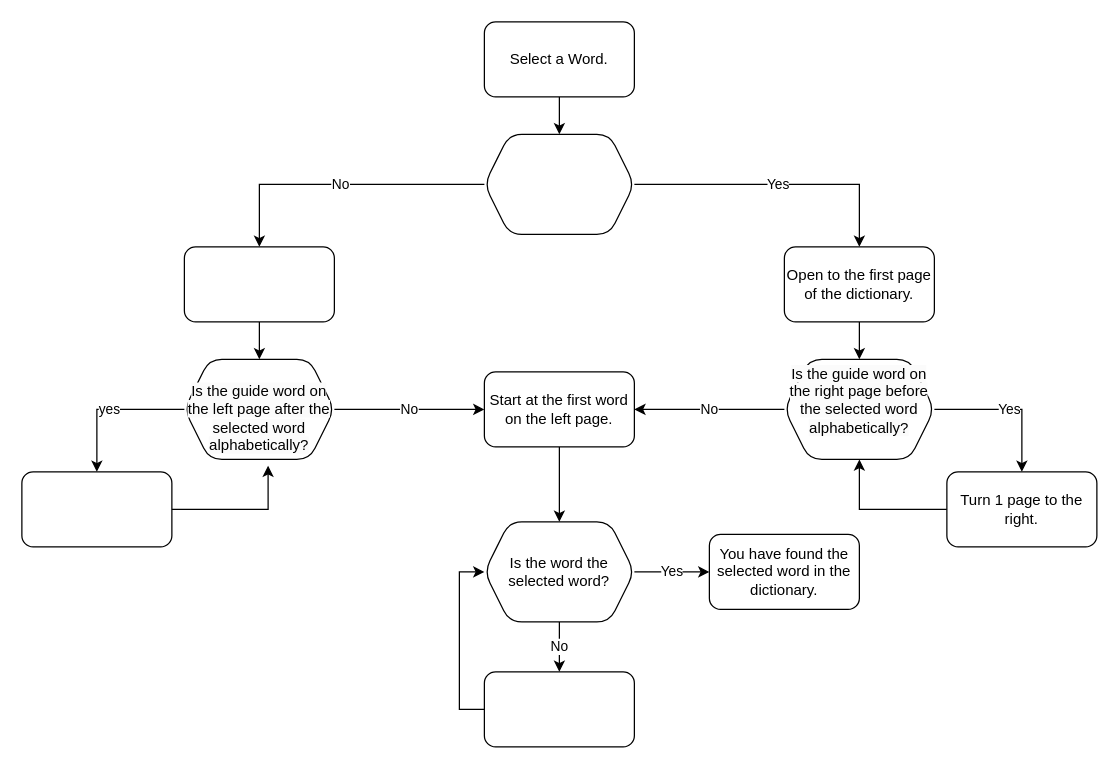
This 1119x769 diagram has some shape labels left out. Here are the shapes that lost their labels. From the top down, the centre of each, then its label:
the point at 558,183: Is the first letter of the selected word a letter A-M?
the point at 258,284: Open to the last page of the dictionary.
the point at 96,509: Turn 1 page to the left.
the point at 558,709: Move to the next sequential word.
